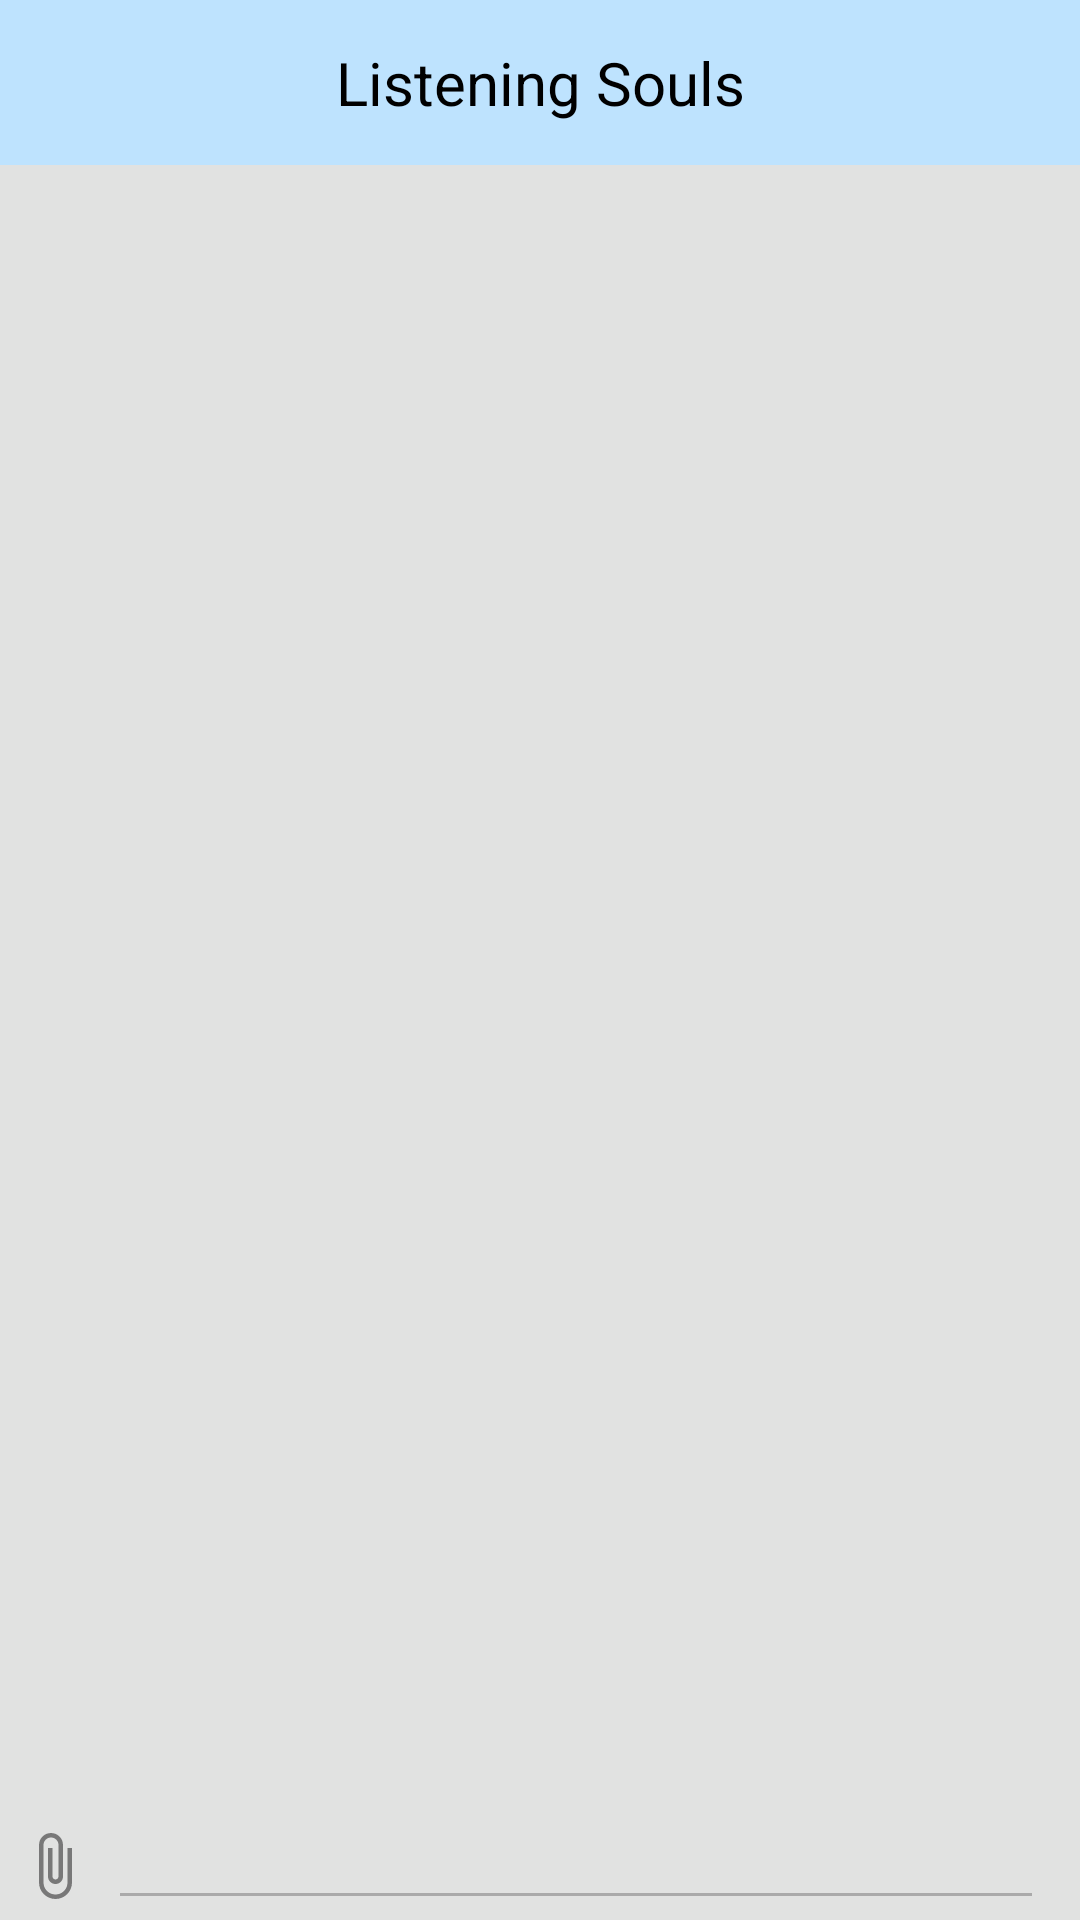

Icon click points for this 1080 x 1920 phone screenshot, format (x,y):
attach file: (55,1866)
